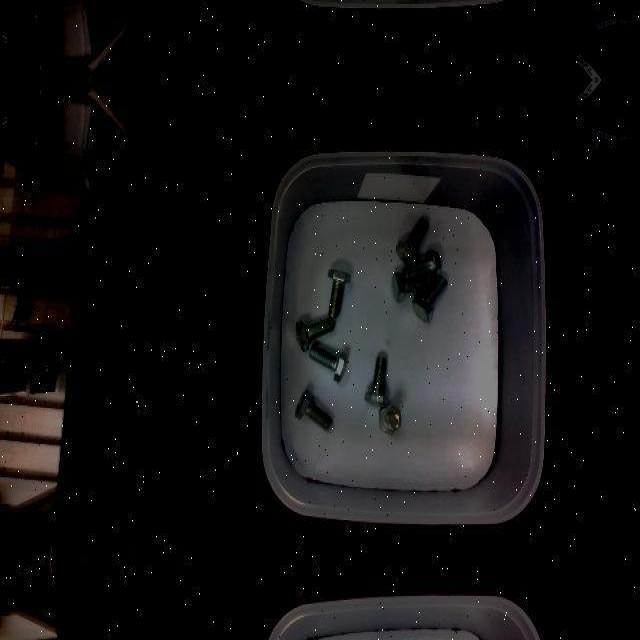screw: (412, 275, 448, 321), (395, 218, 429, 266), (295, 388, 333, 430), (309, 343, 348, 381), (296, 317, 335, 351), (402, 249, 441, 283), (364, 356, 389, 406), (327, 269, 351, 319), (391, 271, 430, 301), (378, 403, 400, 435)
